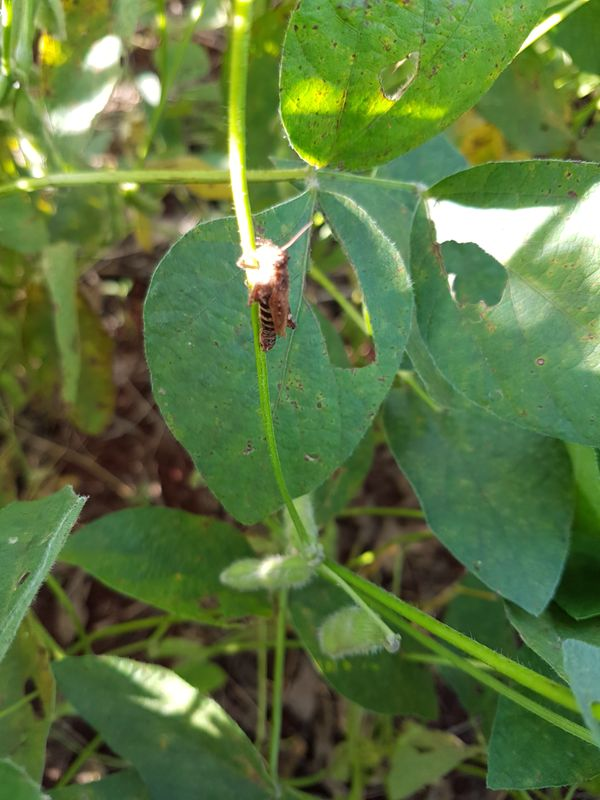Rhammatocerus_schistocercoides: (216, 219, 317, 357)
